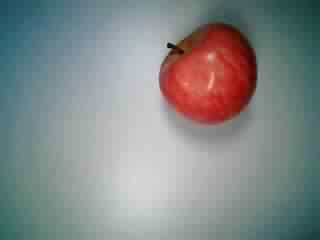apple: (157, 21, 264, 125)
